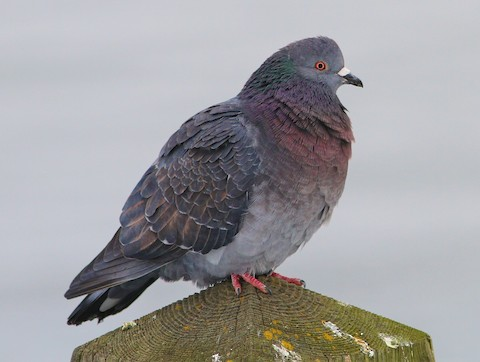pigeon: (57, 34, 370, 329)
